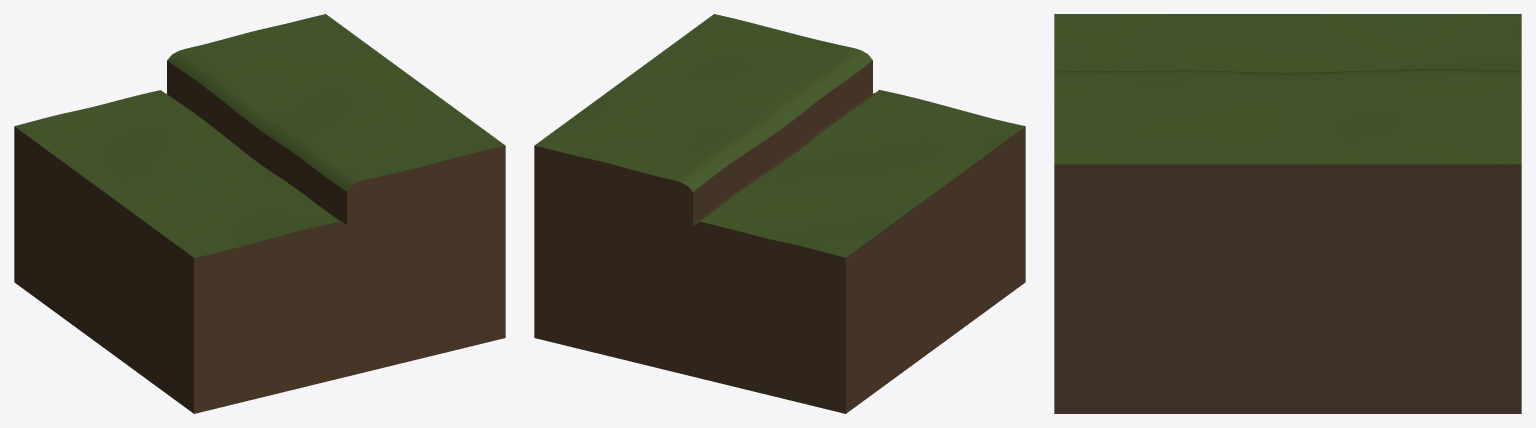
3 views of the same model, side by side, from view 1: azimuth 30°, elevation 25°; view 2: azimuth 150°, elevation 25°; view 3: azimuth 270°, elevation 25° (orthographic). The views are drawn at different scales.
Visible parts, largest first — view 1: k1go; view 2: k1go; view 3: k1go.
Part boxes in pixels (box(x1,y1,x2,y2)): k1go: box(14, 14, 505, 413); k1go: box(534, 14, 1025, 413); k1go: box(1054, 14, 1521, 413).
Size of the model in its own units: 9 by 5.34 by 9.
